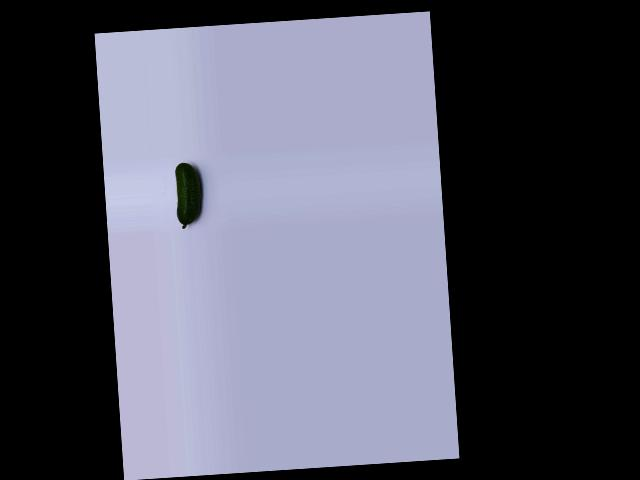cucumber: (174, 161, 203, 228)
